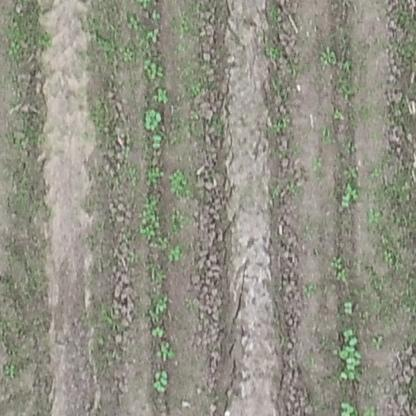vc: (338, 348, 362, 383), (151, 370, 172, 391), (143, 107, 162, 130), (342, 326, 362, 347), (149, 326, 166, 339), (339, 191, 350, 209), (343, 298, 354, 314), (153, 135, 164, 150)
